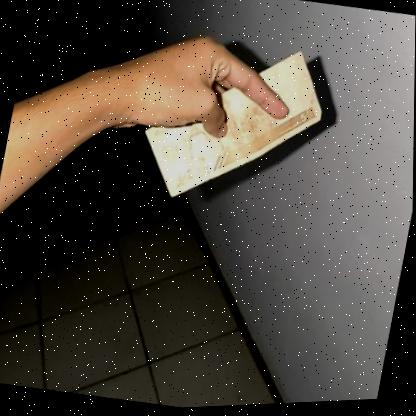five-back-vef: (121, 24, 335, 225)
